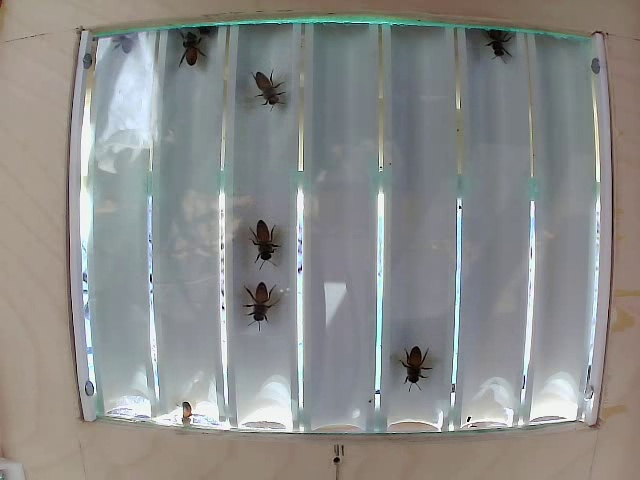bee: (390, 332, 443, 396), (172, 25, 225, 88), (231, 272, 273, 339), (248, 49, 296, 106), (240, 213, 281, 267), (479, 23, 516, 75)
